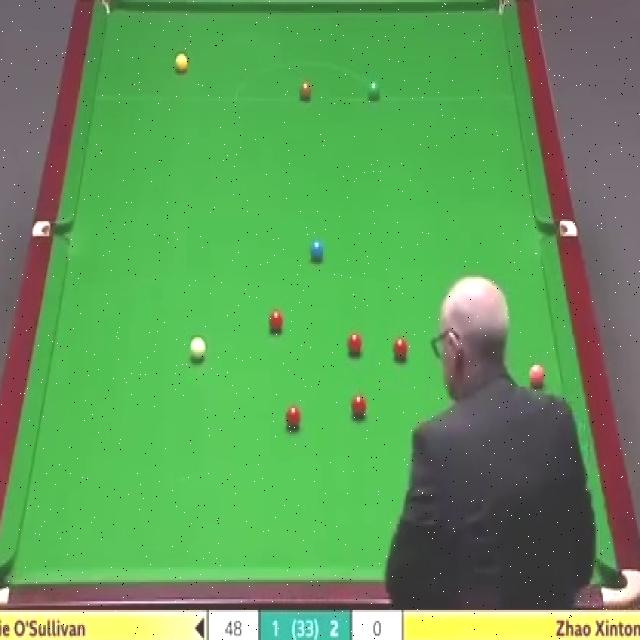black-ball: (297, 485, 313, 511)
blue-ball: (311, 237, 324, 261)
brown-ball: (298, 80, 314, 100)
pink-ball: (528, 362, 545, 386)
red-ball: (351, 392, 369, 421), (540, 400, 559, 425), (267, 310, 286, 333), (508, 386, 524, 412), (316, 424, 332, 449), (286, 405, 301, 431), (212, 360, 227, 385), (301, 419, 317, 442), (393, 336, 408, 360), (298, 439, 312, 464), (290, 388, 304, 412)
white-ball: (190, 285, 207, 312)
yellow-ball: (174, 50, 189, 74)
